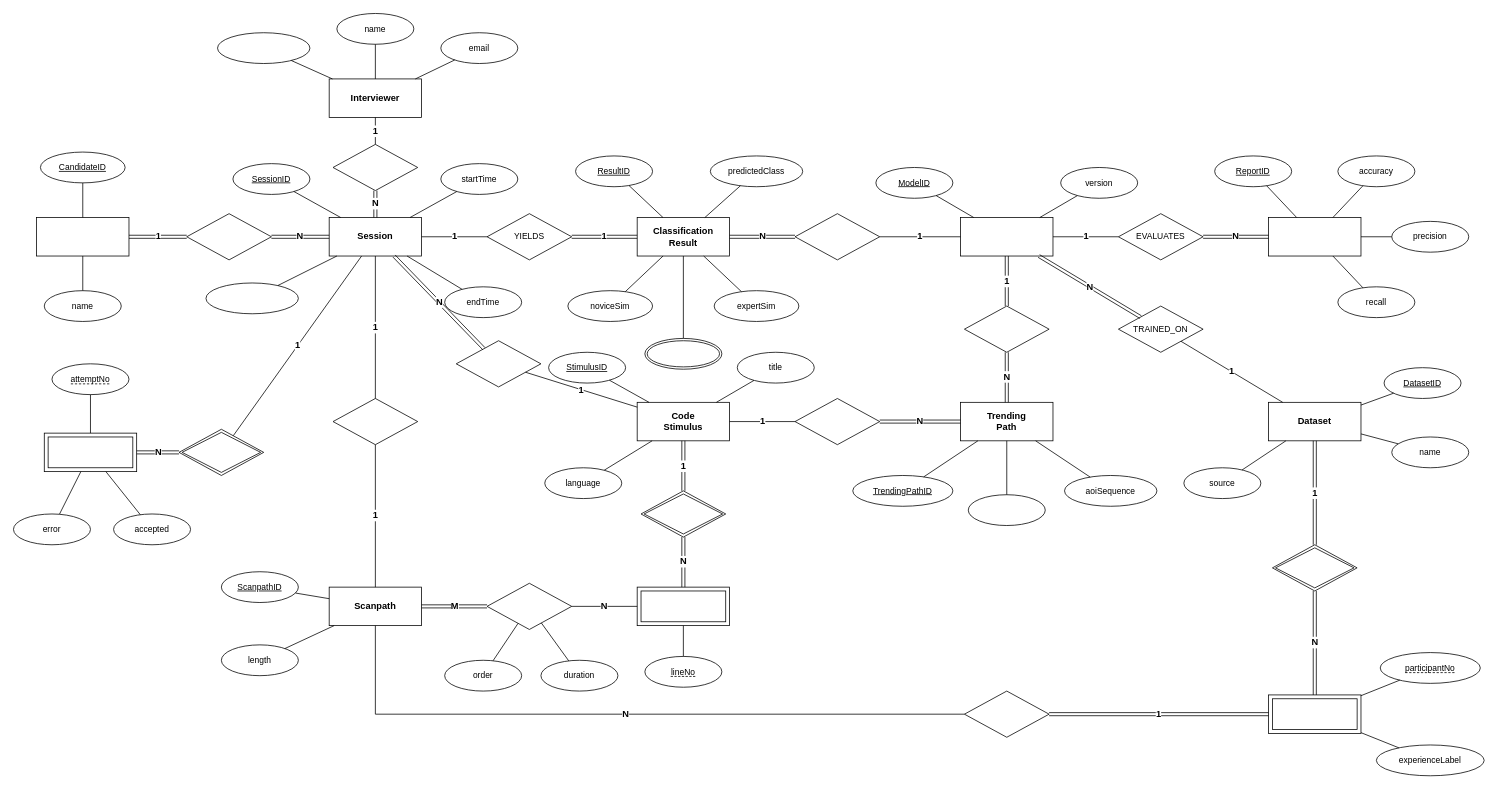
Image size: 1498x789. Some labels were removed from this diagram. The shapes that lost their labels are listed below. From the top down, each one's box as (x1, y1, x2, y2) in pixels, then its label:
(217, 32, 310, 64): InterviewerID
(332, 144, 418, 191): CONDUCTS
(36, 217, 129, 256): Candidate
(186, 213, 271, 260): ATTENDS
(794, 213, 880, 260): USES
(960, 217, 1053, 256): Classification Model
(1268, 217, 1361, 256): Evaluation Report
(205, 282, 298, 314): consentGiven
(964, 305, 1049, 352): DEFINES
(455, 340, 541, 387): SHOWS
(644, 338, 722, 369): warnings
(332, 398, 418, 445): PRODUCES
(794, 398, 880, 445): FOR
(44, 432, 137, 472): Calibration
(178, 429, 264, 475): HAS
(640, 490, 726, 537): CONTAINS
(968, 494, 1045, 526): group
(1272, 544, 1357, 591): INCLUDES
(486, 583, 572, 629): FIXATES_ON
(636, 586, 730, 626): AOI
(964, 690, 1049, 737): RECORDS
(1268, 694, 1361, 733): Participant
